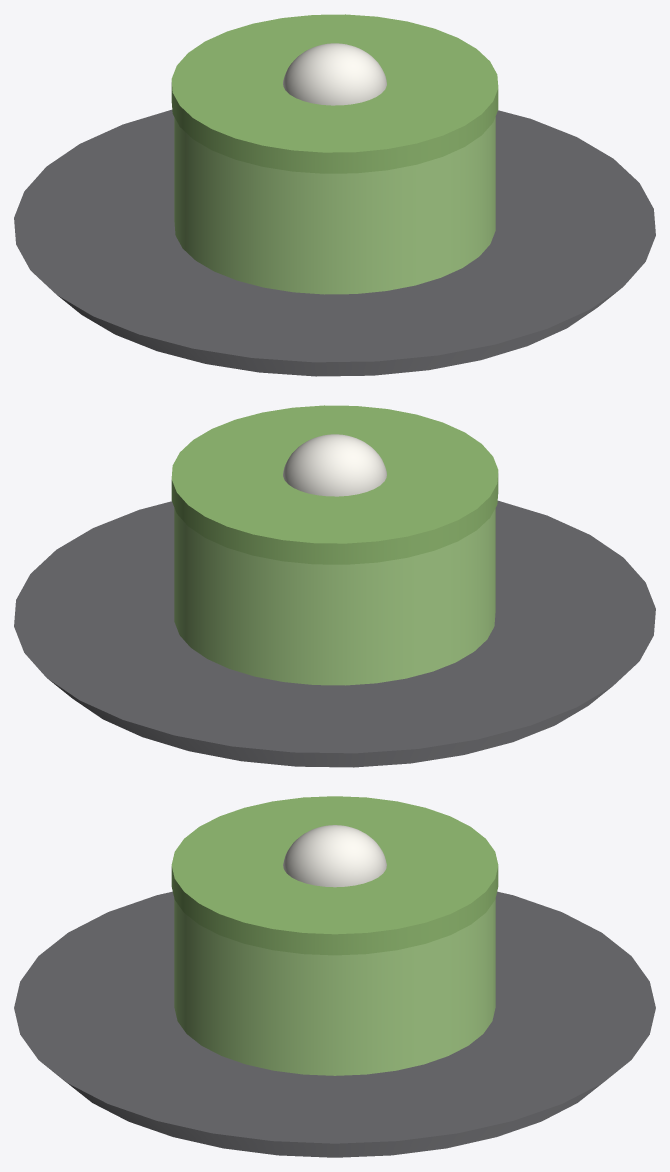
File: matcha_cake.glb
The picture shows the model from 3 angles, top to bottom: view 1: azimuth 30°, elevation 25°; view 2: azimuth 150°, elevation 25°; view 3: azimuth 270°, elevation 25°; orthographic projection.
Parts seen in each view (by area): view 1: DishRoot; view 2: DishRoot; view 3: DishRoot.
Boxes of the visible parts, bbox=[...] form: DishRoot: bbox=[14, 14, 655, 376]; DishRoot: bbox=[14, 405, 655, 767]; DishRoot: bbox=[14, 796, 655, 1157].
Size of the model in its own units: 0.22 by 0.077 by 0.22.
